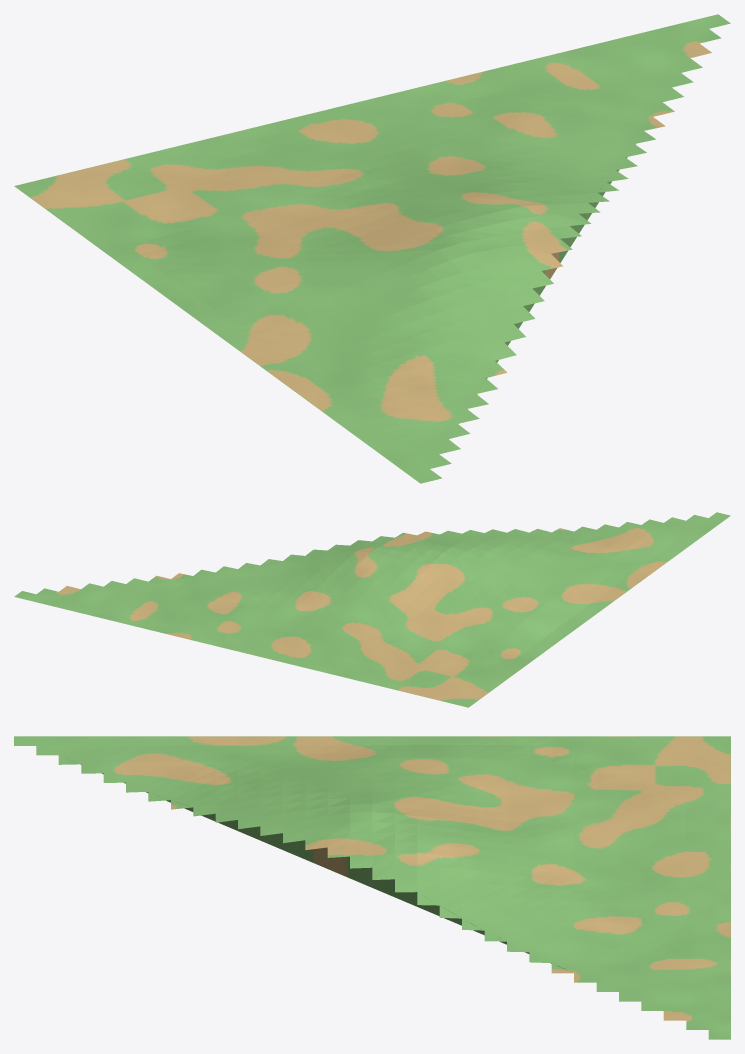
The model's file is Grass_Flat_03_SW.obj.
The picture shows the model from 3 angles, top to bottom: view 1: azimuth 30°, elevation 25°; view 2: azimuth 150°, elevation 25°; view 3: azimuth 270°, elevation 25°; orthographic projection. The views are drawn at different scales.
Size of the model in its own units: 10 by 0.441 by 10.
Materials: 1 (1 with a texture image).
